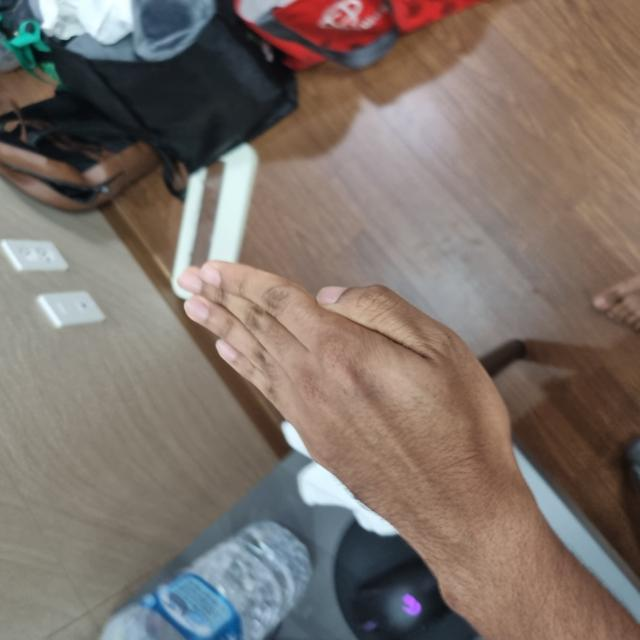Paper: (105, 183, 377, 512)
